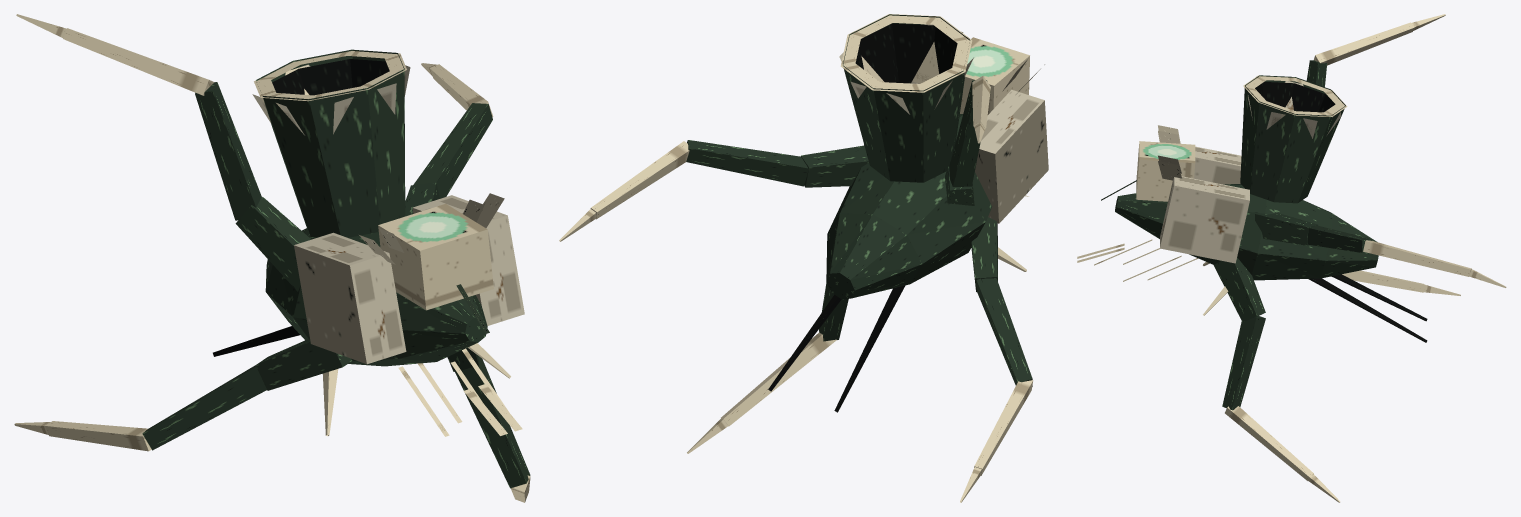
Rendered from vore_locomotion_a.obj.
3 views of the same model, side by side, from view 1: azimuth 30°, elevation 25°; view 2: azimuth 150°, elevation 25°; view 3: azimuth 270°, elevation 25° (orthographic). The views are drawn at different scales.
Parts seen in each view (by area): view 1: root, funnel, head, leg_fl_femur, leg_rl_femur, leg_fl_coxa, leg_fr_femur, leg_rr_femur, leg_rl_coxa, leg_fl_tibia, leg_rl_tibia, leg_fr_tibia (+3 smaller); view 2: root, funnel, leg_fr_femur, head, leg_rl_femur, leg_fr_coxa, leg_fr_tibia, leg_fl_femur, leg_rr_tibia, leg_rl_tibia, leg_rl_coxa, tendril_l (+5 smaller); view 3: root, funnel, head, leg_rr_femur, leg_rr_coxa, leg_fr_coxa, leg_rr_tibia, leg_fr_tibia, leg_fl_tibia, leg_fr_femur, leg_rl_tibia, tendril_r (+1 smaller).
Part boxes in pixels (x1=…): root: x1=265, y1=193, x2=524, y2=436; funnel: x1=254, y1=49, x2=406, y2=237; head: x1=378, y1=203, x2=493, y2=333; leg_fl_femur: x1=195, y1=82, x2=261, y2=220; leg_rl_femur: x1=142, y1=365, x2=266, y2=450; leg_fl_coxa: x1=235, y1=197, x2=311, y2=291; leg_fr_femur: x1=413, y1=103, x2=492, y2=198; leg_rr_femur: x1=455, y1=356, x2=530, y2=488; leg_rl_coxa: x1=255, y1=339, x2=352, y2=390; leg_fl_tibia: x1=63, y1=28, x2=214, y2=95; leg_rl_tibia: x1=45, y1=421, x2=151, y2=451; leg_fr_tibia: x1=429, y1=64, x2=493, y2=116; root: x1=826, y1=59, x2=1048, y2=298; funnel: x1=840, y1=14, x2=972, y2=182; leg_fr_femur: x1=686, y1=140, x2=808, y2=186; head: x1=960, y1=37, x2=1029, y2=114; leg_rl_femur: x1=976, y1=278, x2=1032, y2=386; leg_fr_coxa: x1=800, y1=145, x2=868, y2=187; leg_fr_tibia: x1=590, y1=141, x2=689, y2=219; leg_fl_femur: x1=947, y1=80, x2=990, y2=186; leg_rr_tibia: x1=721, y1=332, x2=836, y2=426; leg_rl_tibia: x1=974, y1=380, x2=1033, y2=475; leg_rl_coxa: x1=971, y1=217, x2=997, y2=291; tendril_l: x1=834, y1=285, x2=905, y2=412; root: x1=1077, y1=125, x2=1378, y2=315; funnel: x1=1240, y1=75, x2=1347, y2=203; head: x1=1101, y1=141, x2=1195, y2=201; leg_rr_femur: x1=1222, y1=316, x2=1265, y2=410; leg_rr_coxa: x1=1213, y1=257, x2=1265, y2=322; leg_fr_coxa: x1=1255, y1=213, x2=1318, y2=245; leg_rr_tibia: x1=1225, y1=406, x2=1313, y2=480; leg_fr_tibia: x1=1363, y1=240, x2=1471, y2=276; leg_fl_tibia: x1=1314, y1=22, x2=1413, y2=65; leg_fr_femur: x1=1307, y1=226, x2=1371, y2=252; leg_rl_tibia: x1=1331, y1=270, x2=1425, y2=292; tendril_r: x1=1308, y1=278, x2=1427, y2=342.
Size of the model in its own units: 0.8256 by 0.9279 by 1.03.
1 material, 1 textured.
